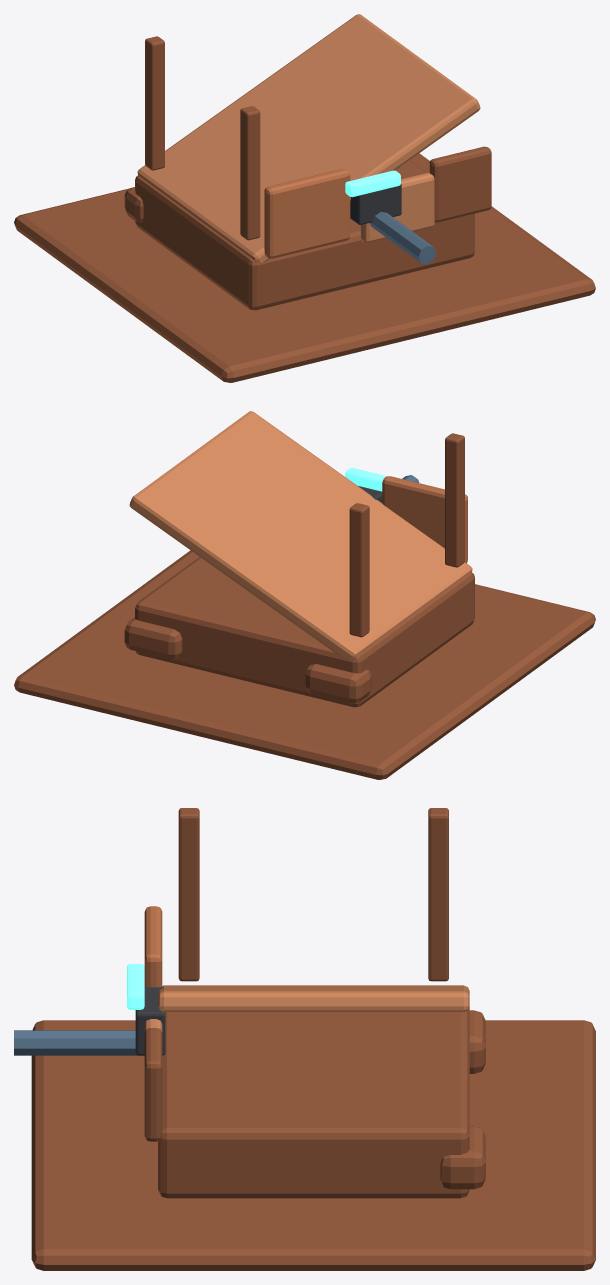
File: sod_shroud_nest.glb
The picture shows the model from 3 angles, top to bottom: view 1: azimuth 30°, elevation 25°; view 2: azimuth 150°, elevation 25°; view 3: azimuth 270°, elevation 25°; orthographic projection. The views are drawn at different scales.
Visible parts, largest first — view 1: sod_shroud_nest; view 2: sod_shroud_nest; view 3: sod_shroud_nest.
Part boxes in pixels (left/top/right/bottom): sod_shroud_nest: left=14, top=14, right=595, bottom=382; sod_shroud_nest: left=14, top=411, right=595, bottom=779; sod_shroud_nest: left=14, top=808, right=595, bottom=1270.
Size of the model in its own units: 1.9 by 1.04 by 1.96.
